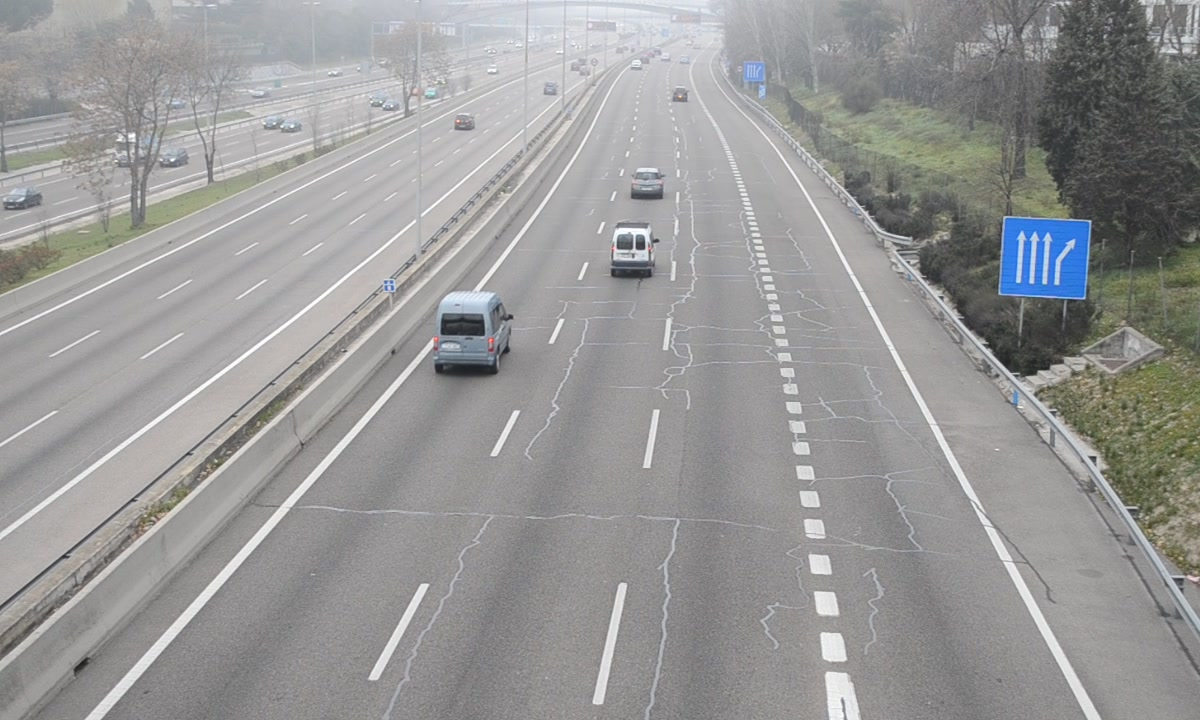car: (629, 168, 666, 201)
van: (432, 291, 509, 367), (611, 224, 653, 273)
